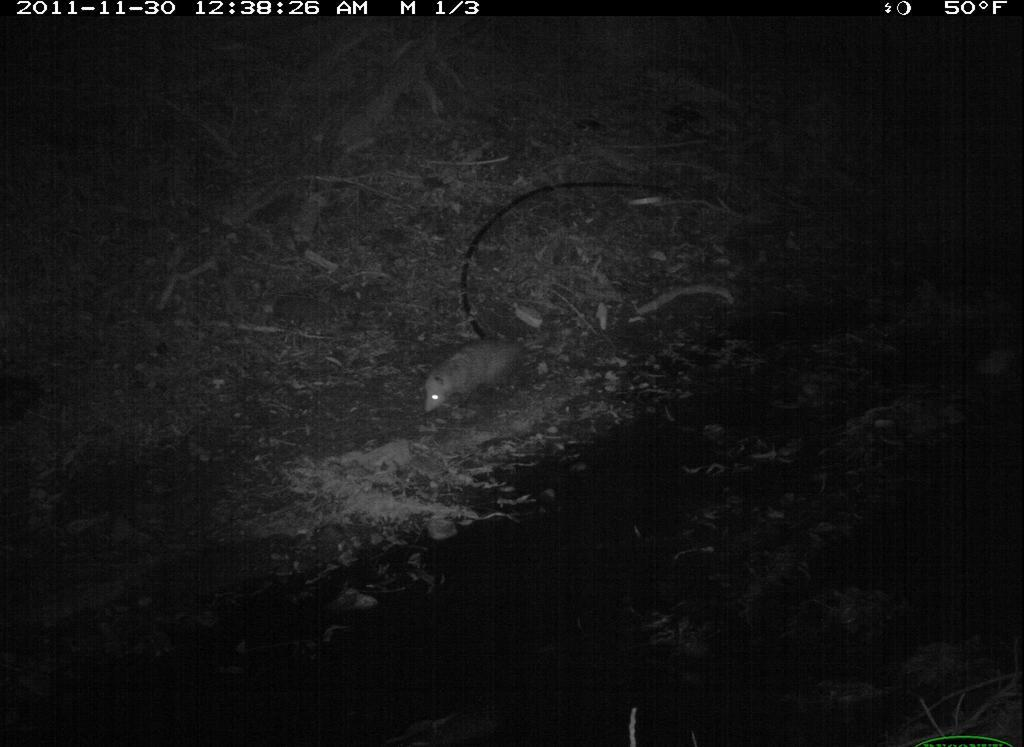opossum: (401, 318, 553, 451)
